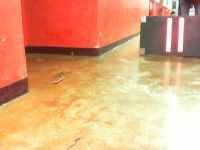switch: (177, 17, 184, 52), (165, 18, 172, 52)
